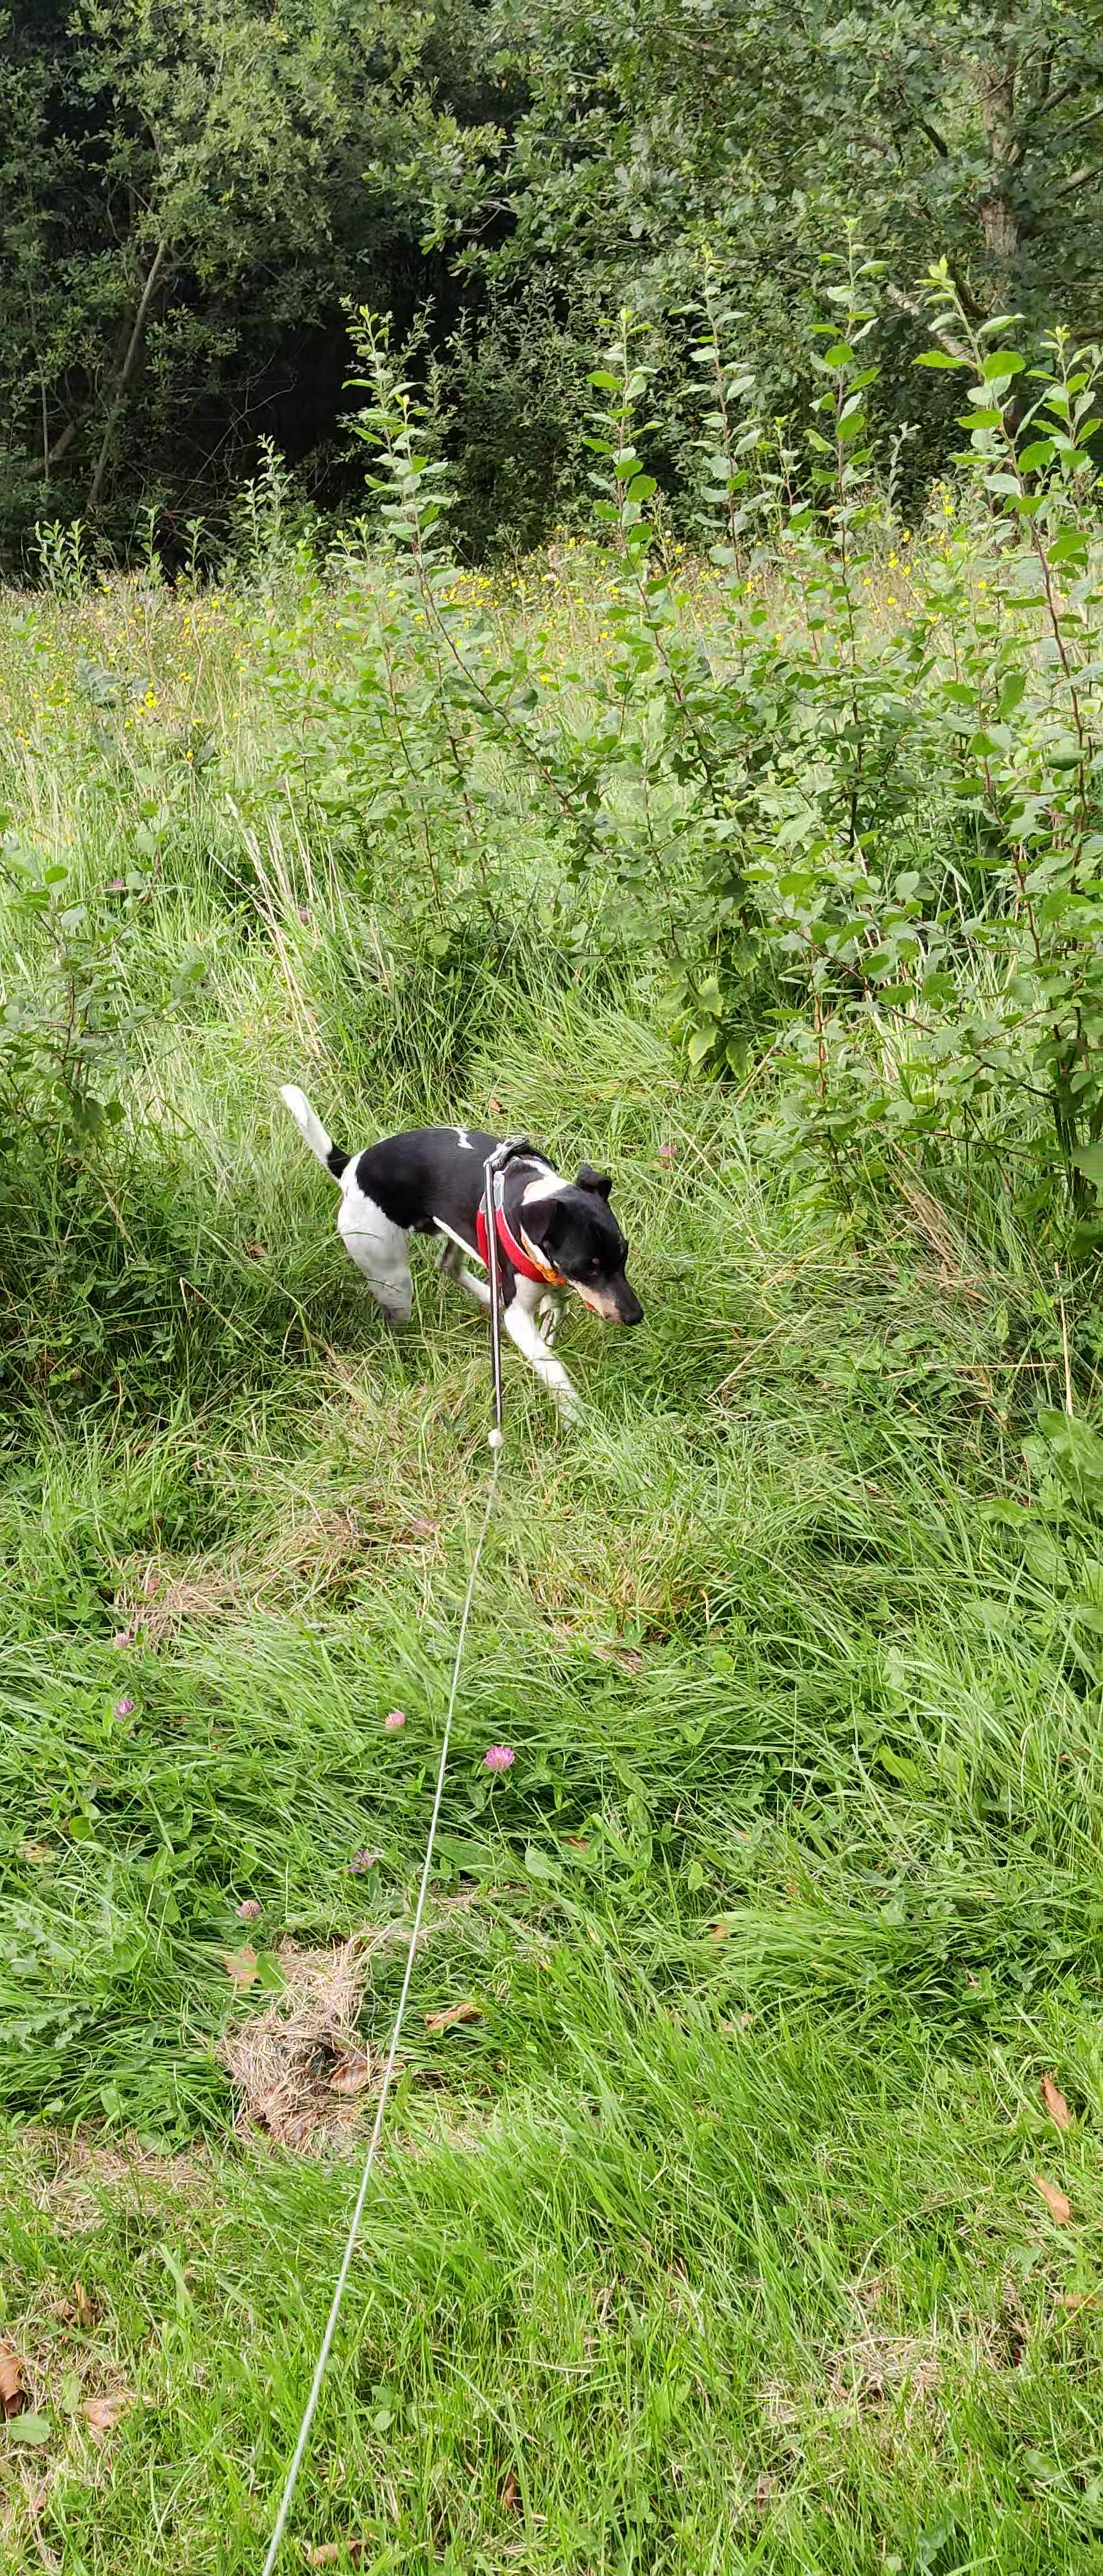Dog: (275, 1073, 654, 1431)
